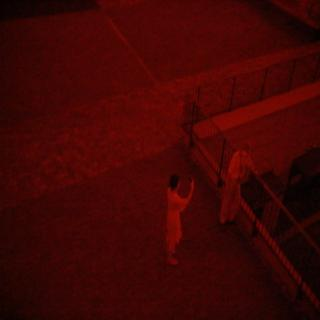person: (216, 132, 271, 241), (156, 167, 199, 269)
